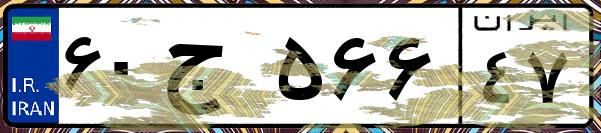0: (110, 28, 158, 98)
4: (475, 38, 525, 113)
5: (270, 28, 330, 110)
6: (385, 28, 445, 110), (330, 28, 385, 110), (57, 26, 110, 100)
7: (525, 38, 570, 115)
ج: (158, 20, 270, 120)
